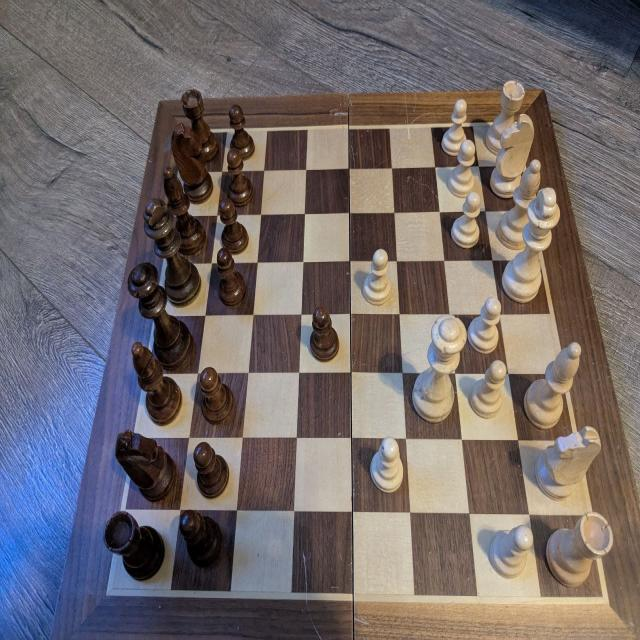black_bishop: (129, 340, 185, 422), (162, 166, 206, 256)
black_king: (144, 197, 202, 306)
black_knight: (114, 430, 178, 503), (170, 125, 212, 203)
black_pawn: (178, 509, 224, 569), (197, 365, 236, 426), (192, 440, 230, 498), (216, 245, 246, 308), (218, 198, 248, 255), (309, 305, 339, 361), (228, 103, 255, 161), (226, 148, 252, 206)
black_queen: (126, 260, 195, 364)
black_rook: (104, 510, 166, 580), (180, 88, 218, 164)
white_bishop: (522, 340, 584, 432), (496, 156, 546, 248)
white_king: (501, 194, 558, 301)
white_knight: (534, 426, 602, 500), (490, 116, 534, 197)
white_pawn: (488, 522, 534, 580), (361, 245, 397, 308), (469, 359, 507, 418), (370, 437, 404, 494), (467, 298, 500, 354), (451, 189, 481, 248), (448, 137, 476, 197), (441, 98, 468, 155)
white_queen: (411, 314, 463, 421)
white_rook: (546, 512, 612, 586), (485, 80, 525, 158)
